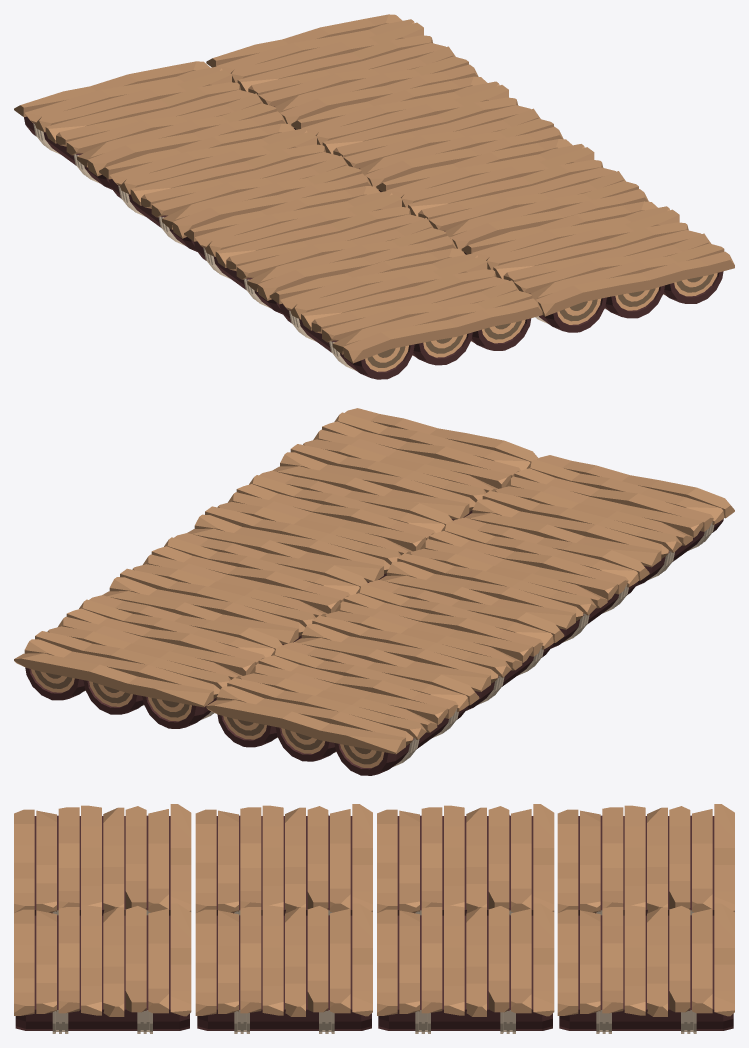
The model's file is Raft.fbx.
3 renders of one model, top to bottom at view 1: azimuth 30°, elevation 25°; view 2: azimuth 150°, elevation 25°; view 3: azimuth 270°, elevation 25°, orthographic. The views are drawn at different scales.
Parts seen in each view (by area): view 1: WoodRaft.011, WoodRaft.009, WoodRaft.008, WoodRaft.006, WoodRaft.007, WoodRaft.002, WoodRaft, WoodRaft.001, Raft.011, Raft.009, Raft.008, Raft.006 (+1 smaller); view 2: WoodRaft.007, WoodRaft.001, WoodRaft.011, WoodRaft.008, WoodRaft.006, WoodRaft.009, WoodRaft.002, WoodRaft, Raft.007, Raft.001, Raft.011, Raft.008 (+1 smaller); view 3: WoodRaft.002, WoodRaft.001, WoodRaft.009, WoodRaft, WoodRaft.008, WoodRaft.007, WoodRaft.011, WoodRaft.006, Raft, Raft.001, Raft.009, Raft.002 (+4 smaller).
Boxes of the visible parts, <box> form: WoodRaft.011: <box>269,248,542,363</box>; WoodRaft.009: <box>461,201,734,316</box>; WoodRaft.008: <box>184,186,456,300</box>; WoodRaft.006: <box>99,123,371,238</box>; WoodRaft.007: <box>14,61,286,176</box>; WoodRaft.002: <box>376,139,648,252</box>; WoodRaft: <box>291,76,563,190</box>; WoodRaft.001: <box>206,14,478,127</box>; Raft.011: <box>279,303,531,379</box>; Raft.009: <box>530,271,723,332</box>; Raft.008: <box>194,241,282,314</box>; Raft.006: <box>109,179,197,251</box>; WoodRaft.007: <box>206,642,479,754</box>; WoodRaft.001: <box>14,595,282,707</box>; WoodRaft.011: <box>464,455,734,567</box>; WoodRaft.008: <box>379,517,649,629</box>; WoodRaft.006: <box>295,580,564,691</box>; WoodRaft.009: <box>272,408,538,519</box>; WoodRaft.002: <box>187,470,452,581</box>; WoodRaft: <box>102,533,367,644</box>; Raft.007: <box>217,706,468,775</box>; Raft.001: <box>25,667,216,728</box>; Raft.011: <box>636,519,723,586</box>; Raft.008: <box>551,581,638,648</box>; WoodRaft.002: <box>195,903,372,1016</box>; WoodRaft.001: <box>557,903,734,1016</box>; WoodRaft.009: <box>14,903,191,1016</box>; WoodRaft: <box>377,903,554,1016</box>; WoodRaft.008: <box>195,804,372,913</box>; WoodRaft.007: <box>557,804,734,913</box>; WoodRaft.011: <box>14,804,191,913</box>; WoodRaft.006: <box>377,804,554,913</box>; Raft: <box>378,914,552,1033</box>; Raft.001: <box>559,915,733,1033</box>; Raft.009: <box>15,915,189,1033</box>; Raft.002: <box>197,914,371,1033</box>.
Size of the model in its own units: 1047 by 116 by 1608.
